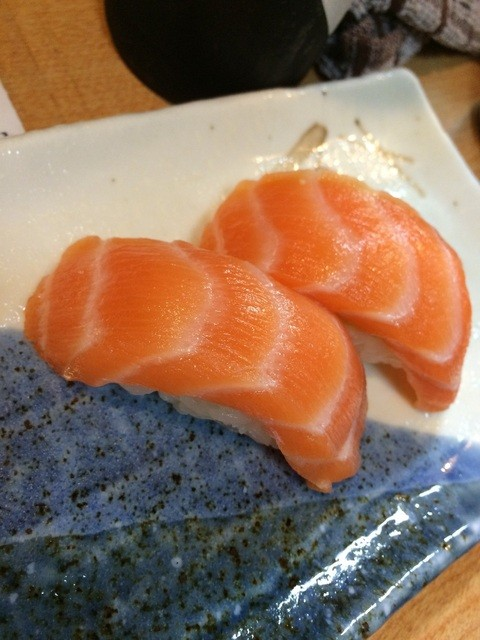salmon: (28, 161, 476, 485)
